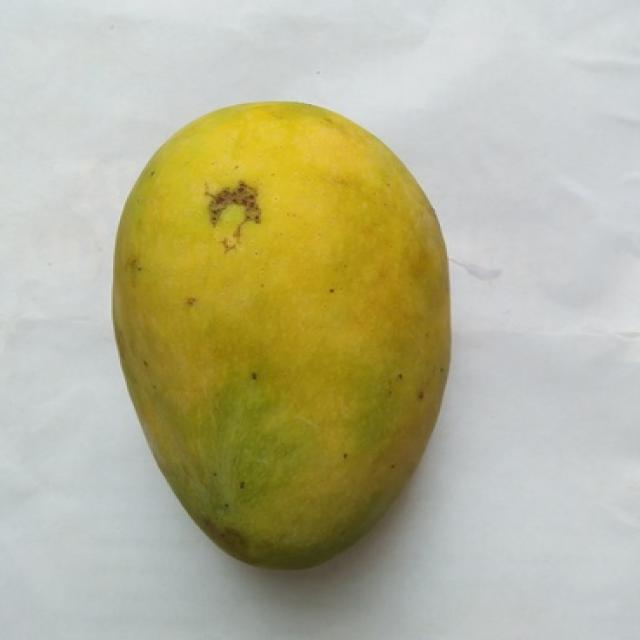Mango: (115, 103, 449, 566)
